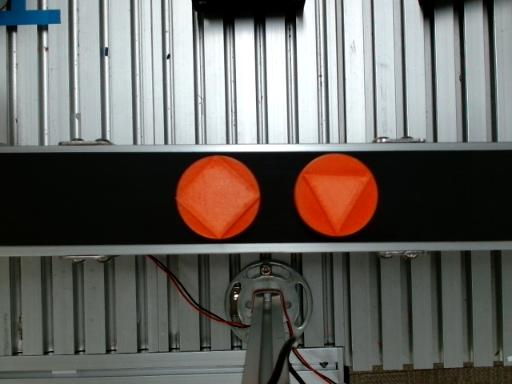Not_Square: (303, 172, 375, 239)
Orange_Waper: (176, 156, 260, 239), (294, 155, 378, 237)
Square: (177, 156, 261, 241)
